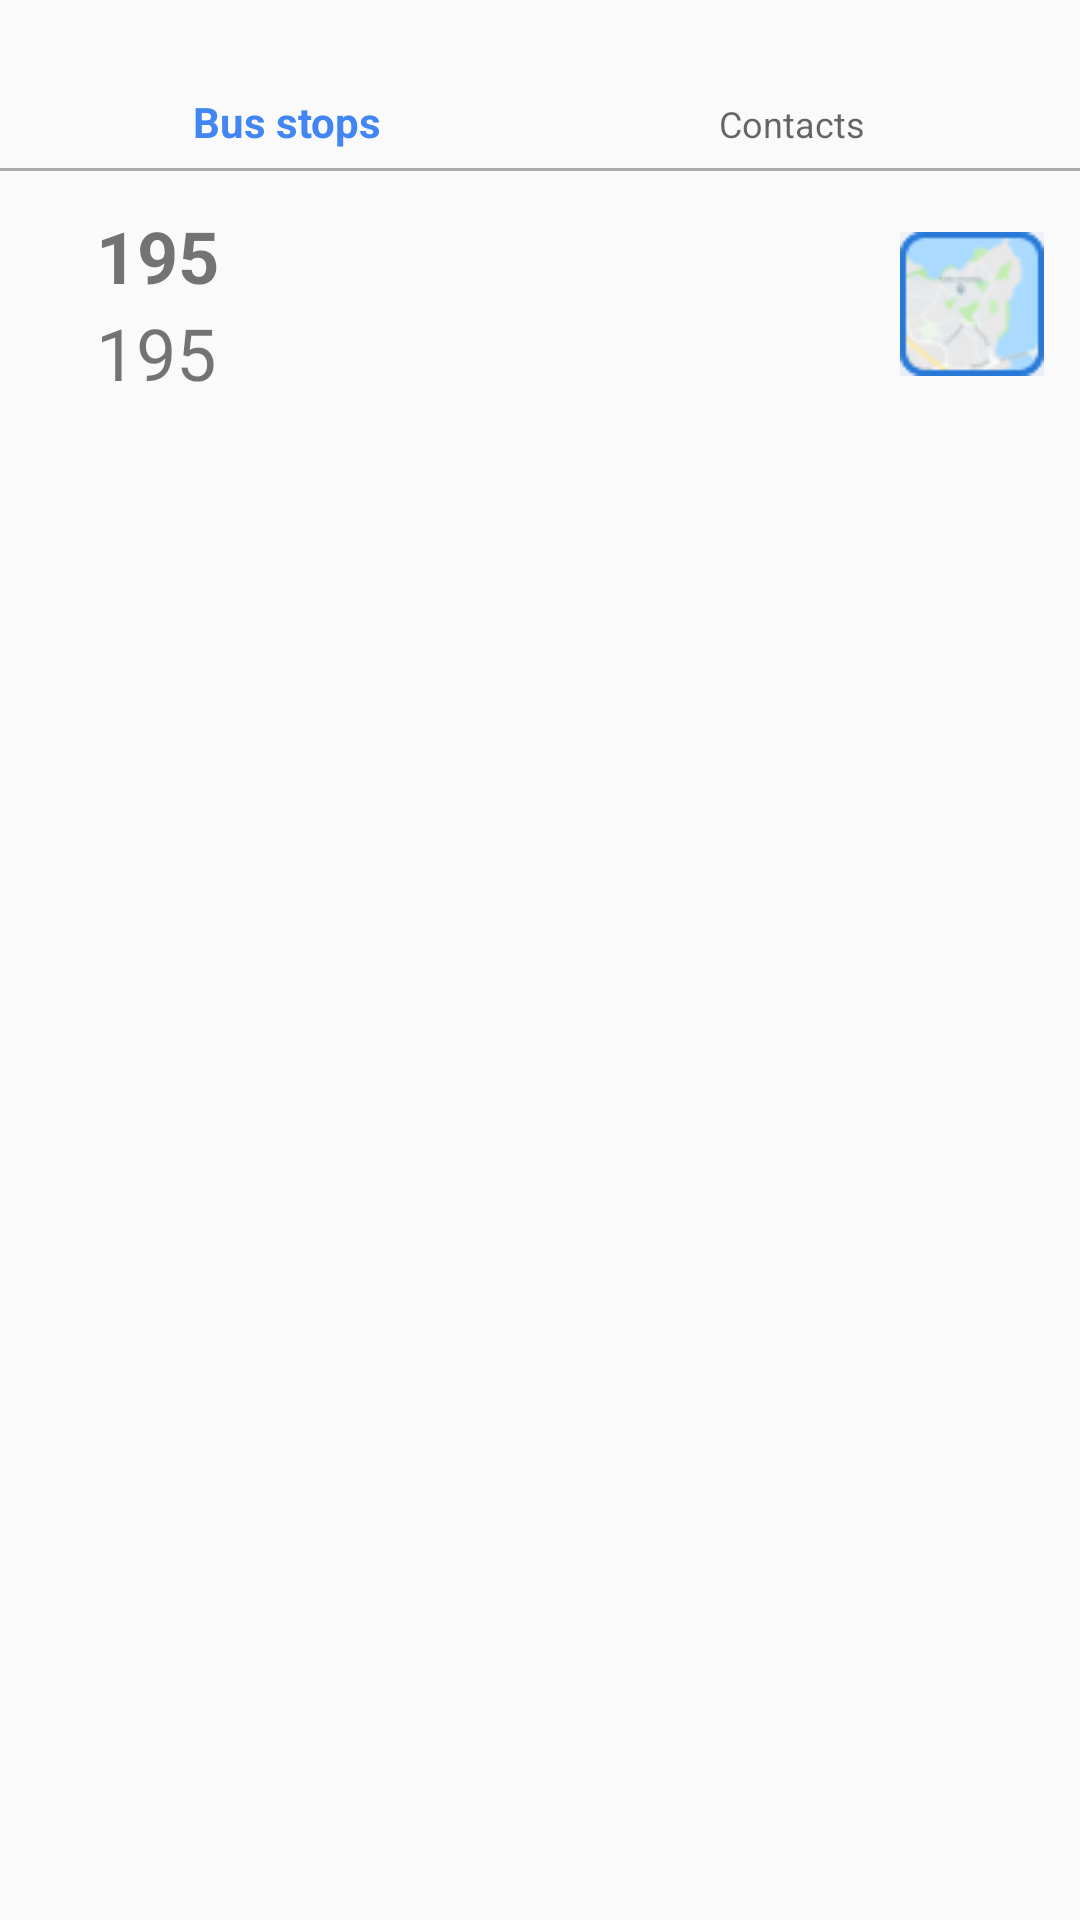

Named icons in this screenshot (1080×1920) and their bounding boxes, bbox(x1, y1, x2, y2):
toggle map: bbox(900, 232, 1044, 376)
